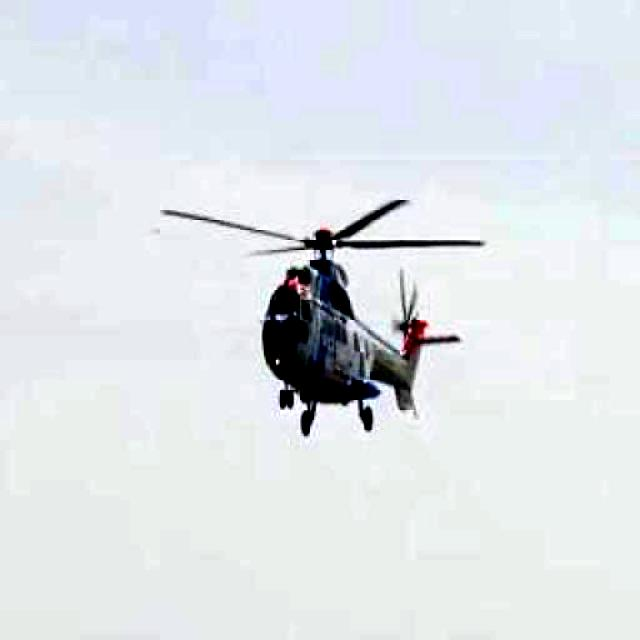drone: (136, 159, 520, 458)
